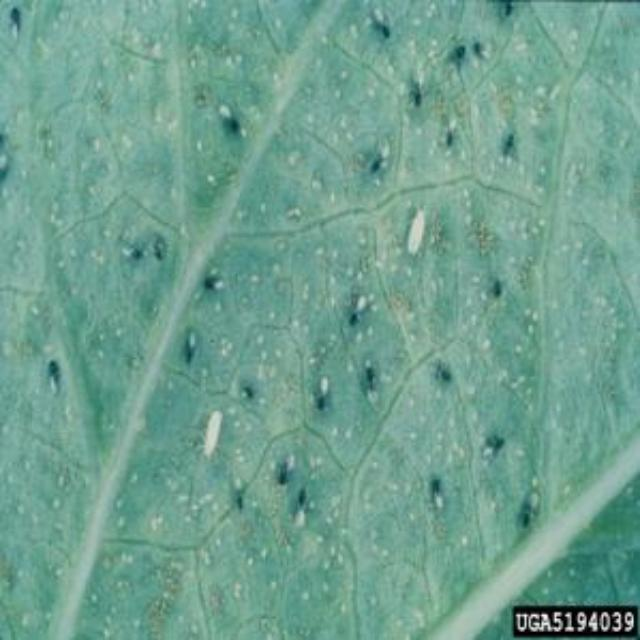Silverleaf whitefly: (356, 170, 476, 294), (168, 375, 272, 491)
